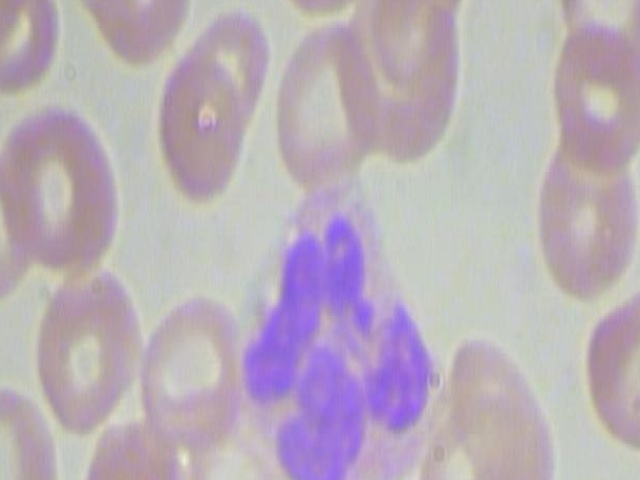RBC: (269, 13, 387, 209), (143, 46, 259, 222), (33, 257, 148, 433), (530, 126, 640, 308), (449, 328, 566, 480), (140, 280, 242, 453), (543, 18, 640, 173), (544, 0, 640, 58), (269, 0, 383, 22)
WBC: (226, 177, 456, 480)
